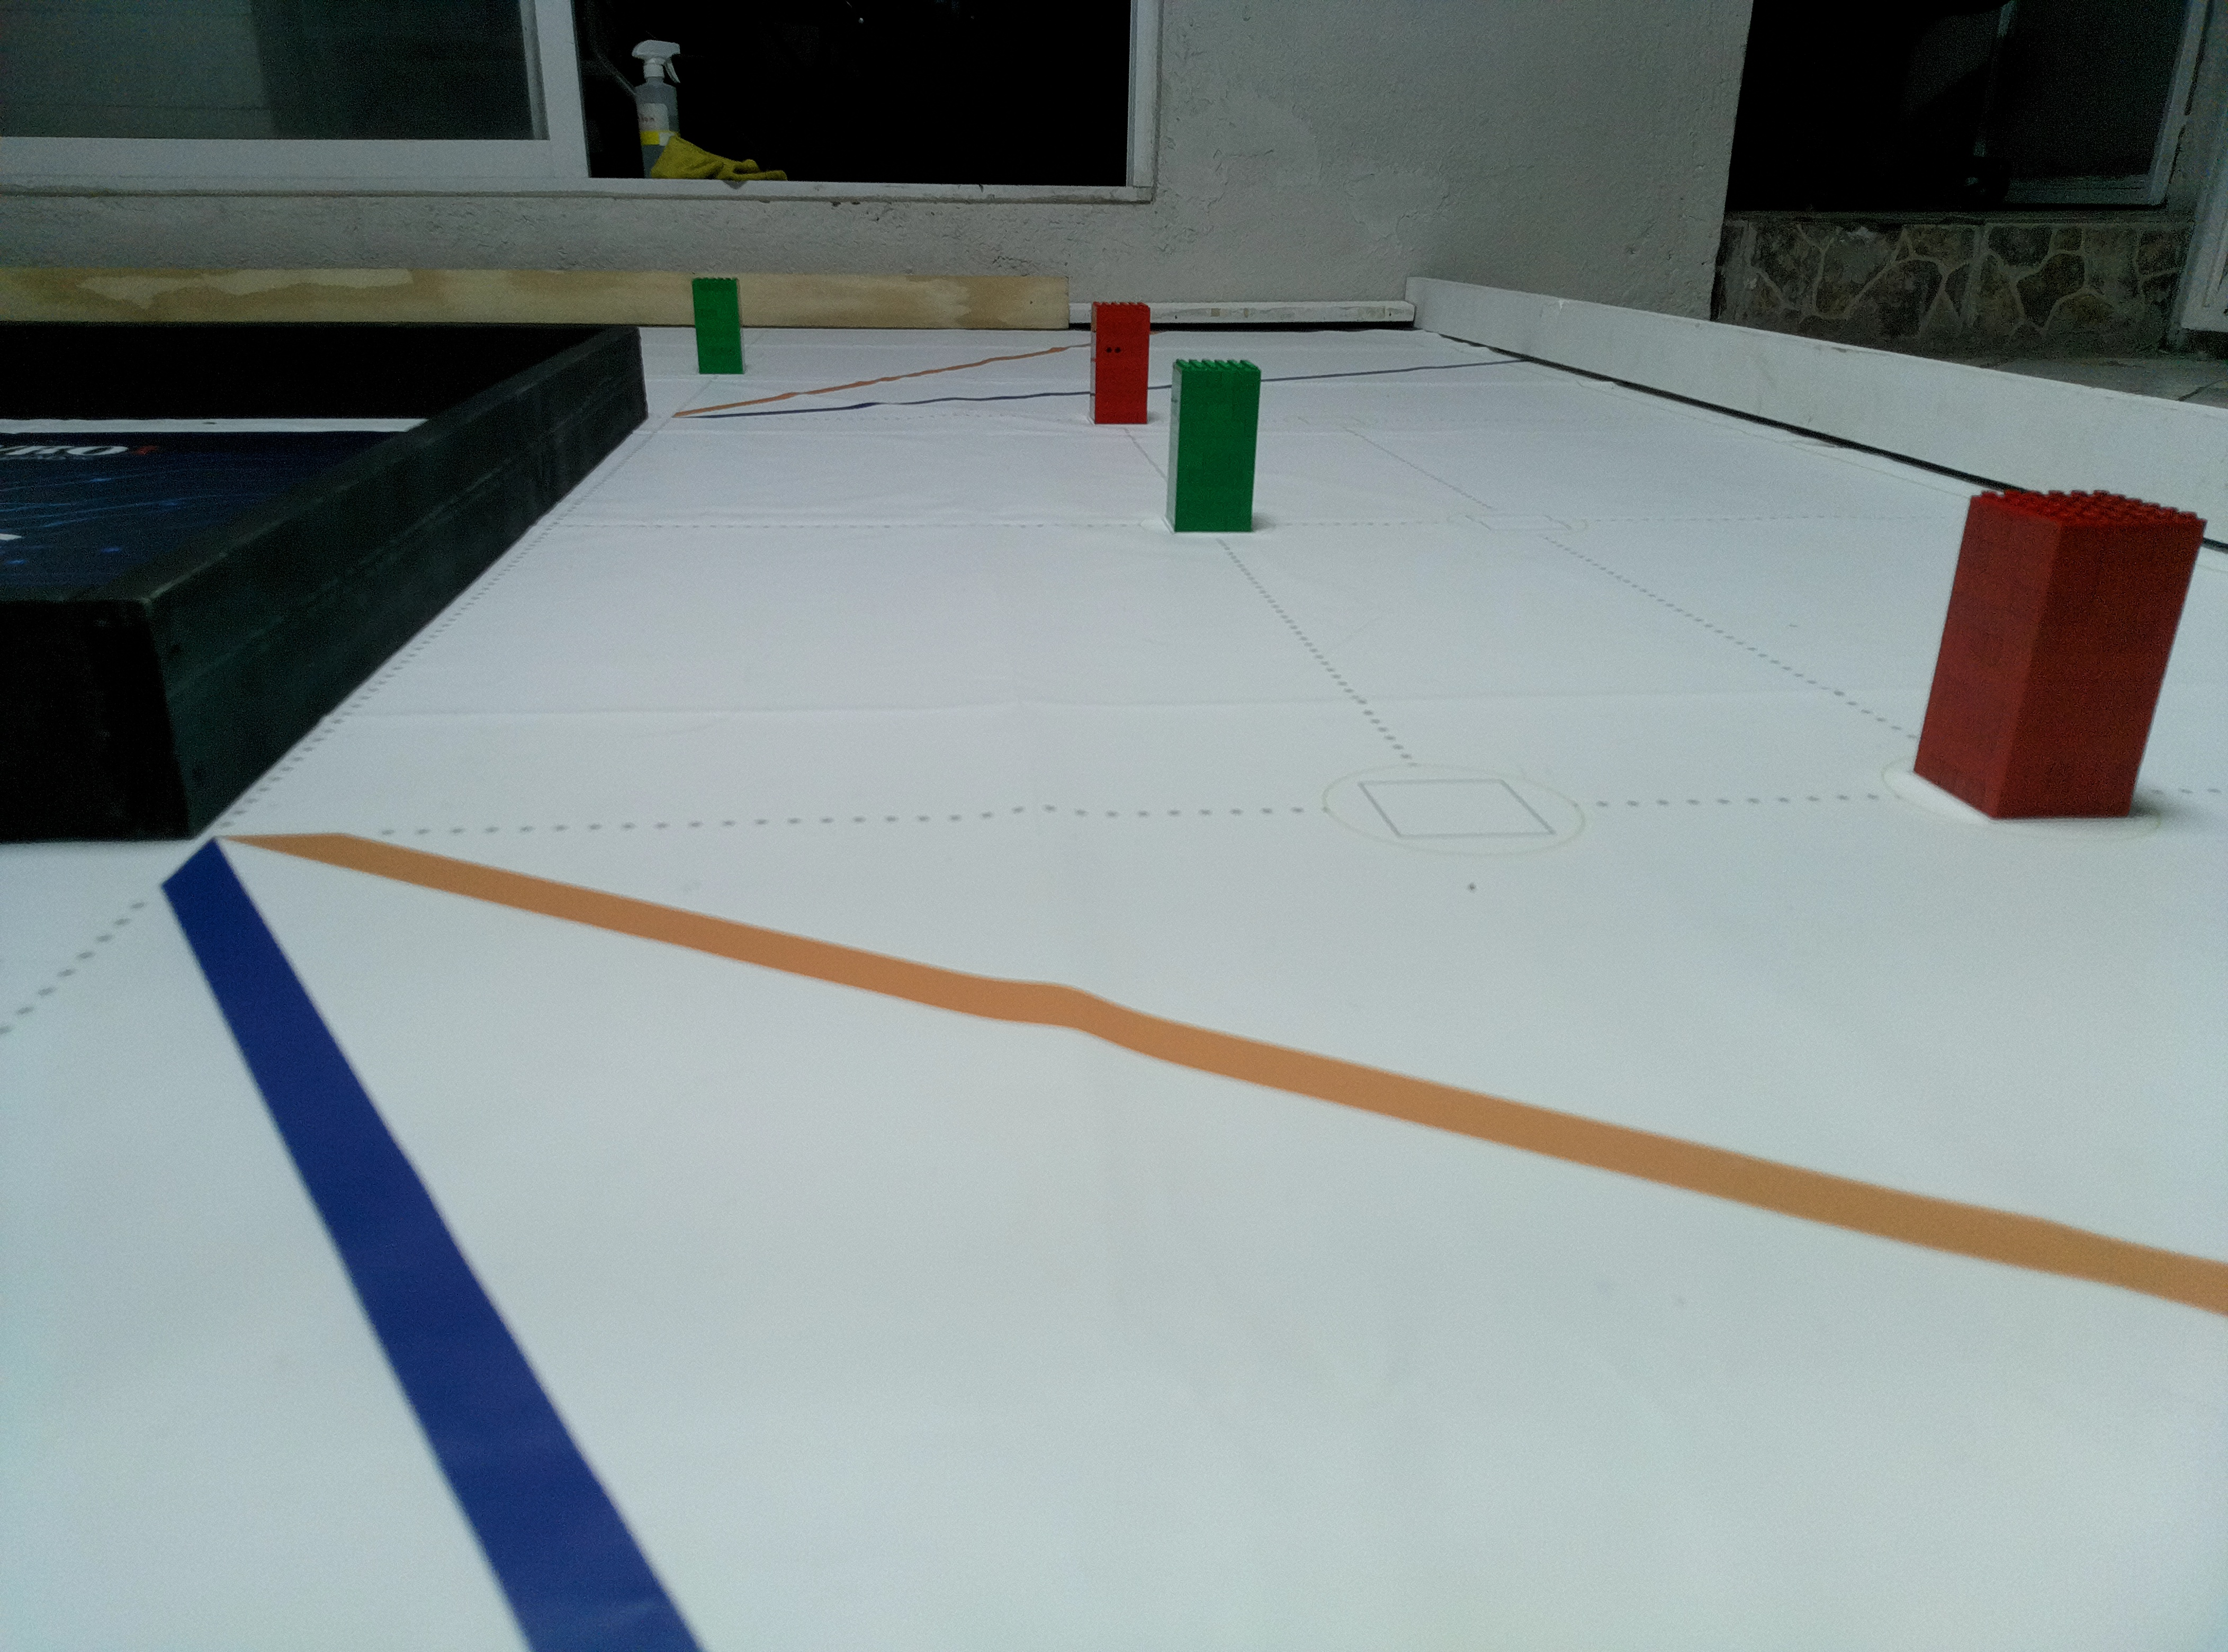greenbox: (1161, 354, 1263, 533), (691, 278, 750, 373)
redbox: (1907, 484, 2204, 829), (1090, 302, 1147, 427)
